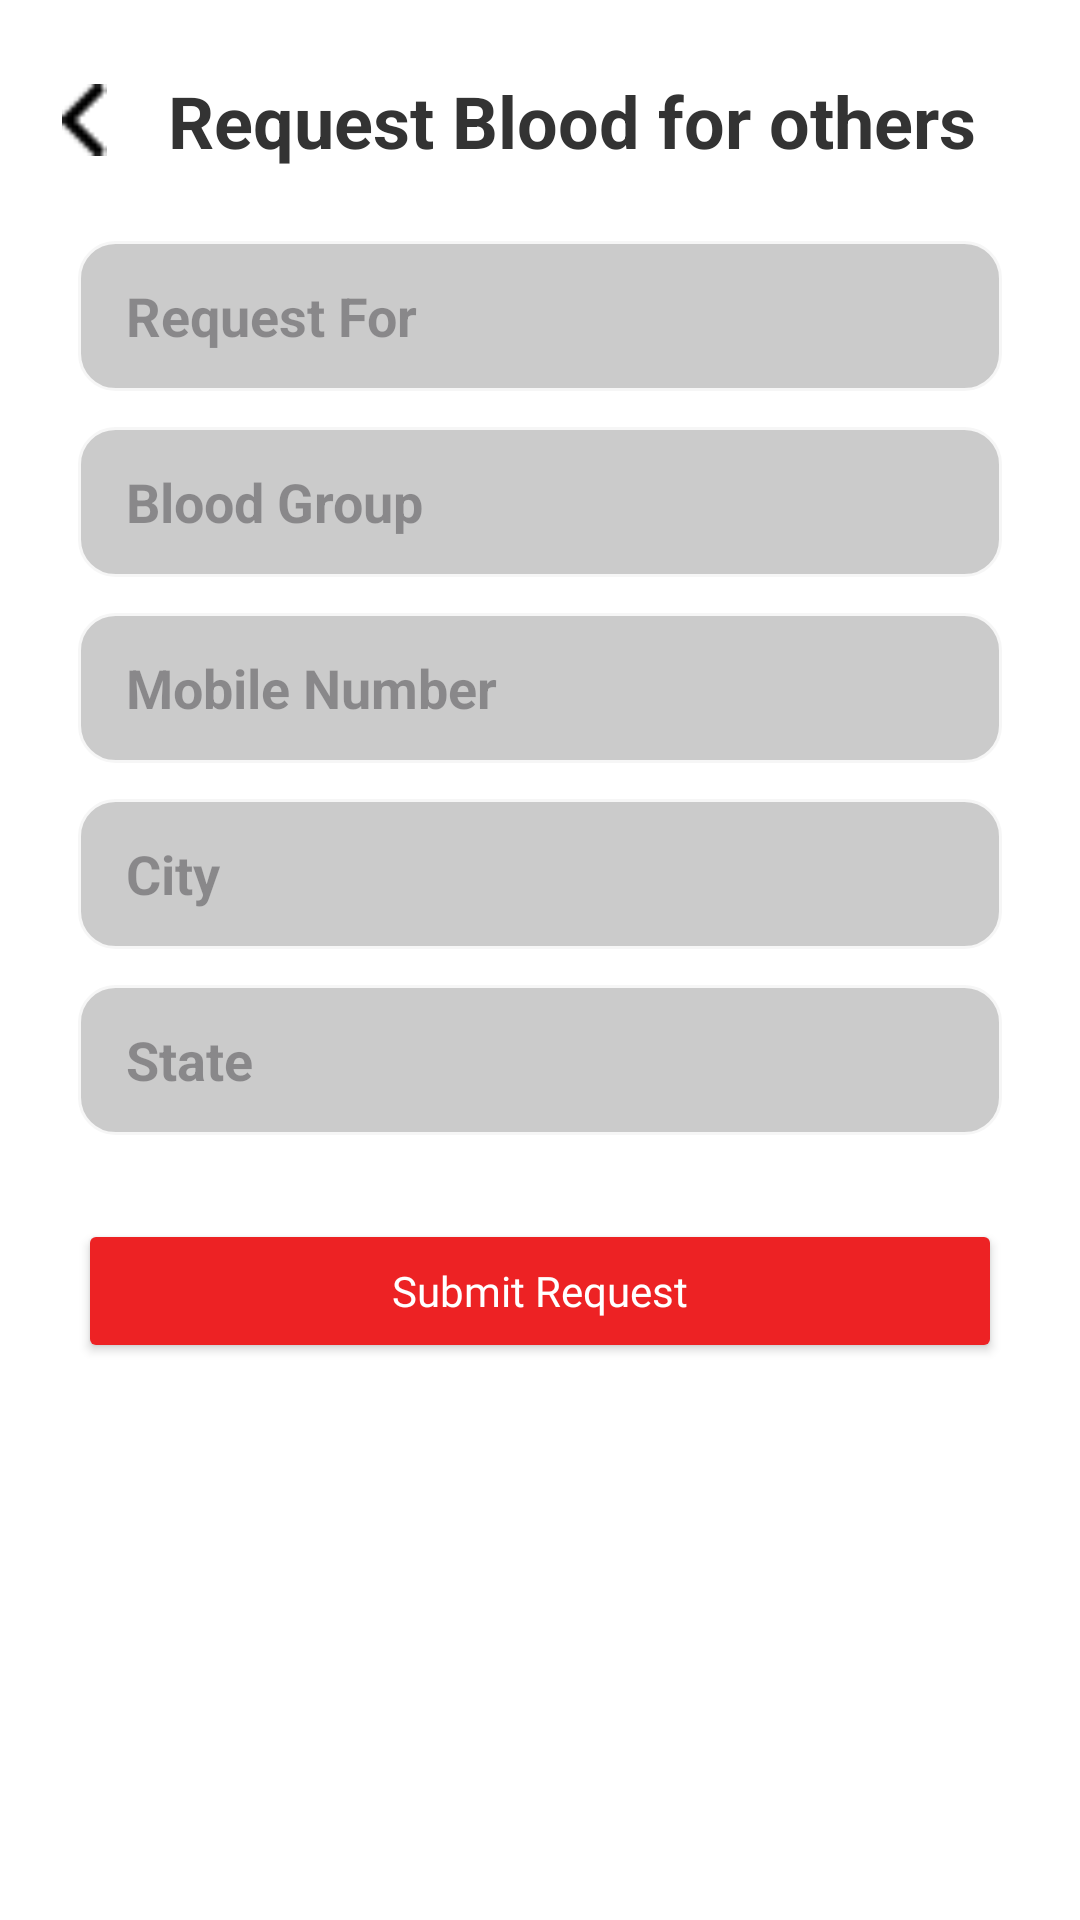

Where icons sit on this 1080*1920 app screen, as bbox=[x1, y1, x2, y2]:
Back: bbox=[62, 84, 107, 156]
